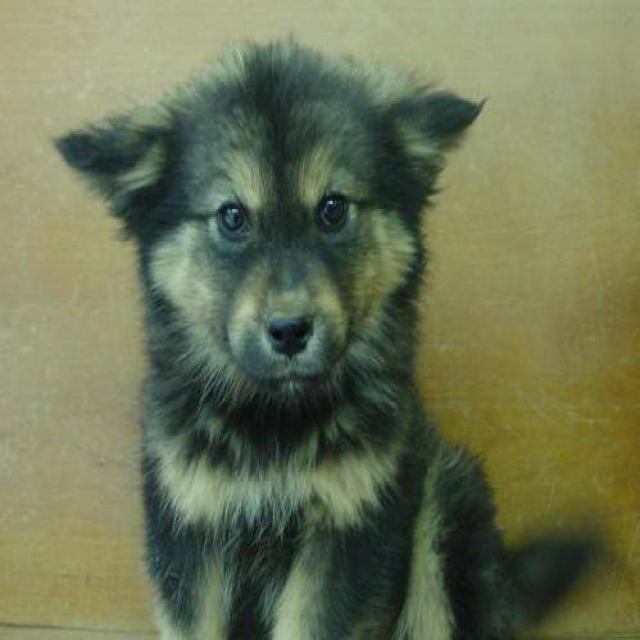Dog: (49, 32, 500, 404)
